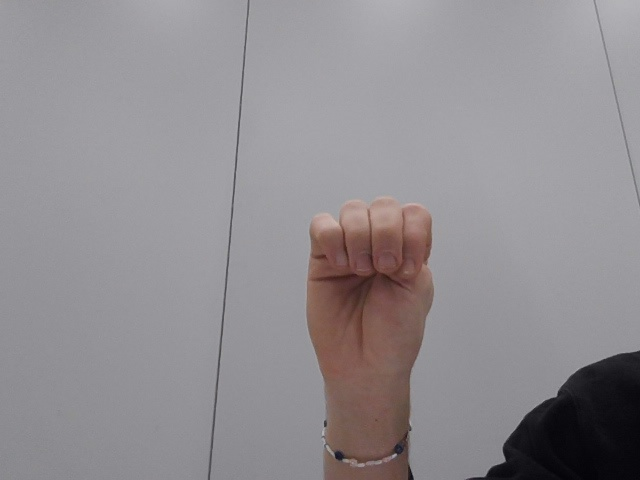down: (274, 188, 441, 436)
